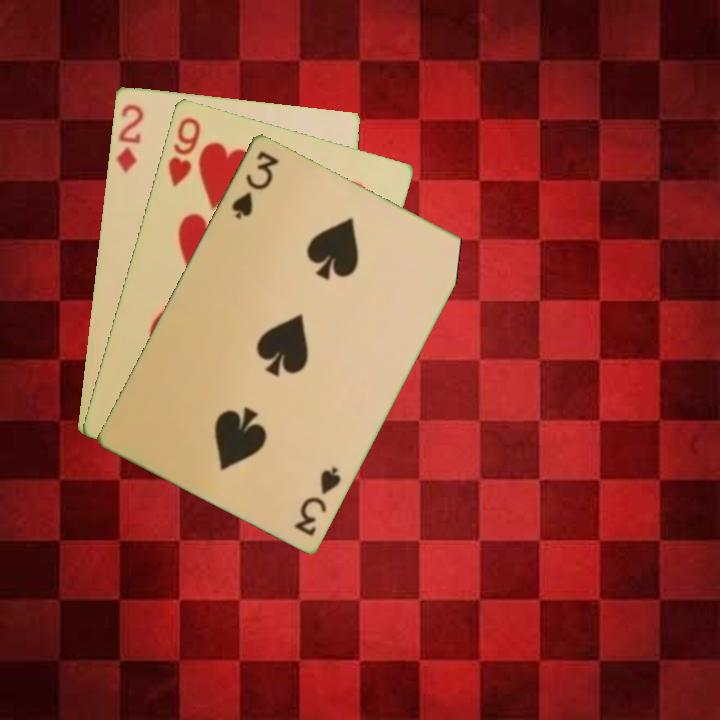2d: (112, 100, 146, 176)
3s: (290, 462, 344, 539), (227, 147, 281, 222)
9h: (164, 113, 203, 189)
